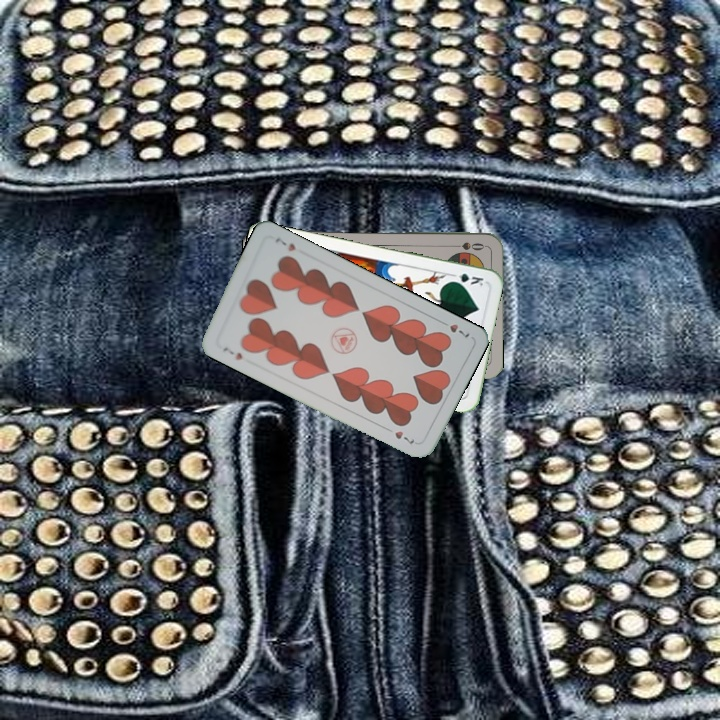GK: (446, 269, 486, 289)
H7: (436, 316, 472, 340), (219, 343, 245, 363)
SO: (446, 238, 486, 253)
